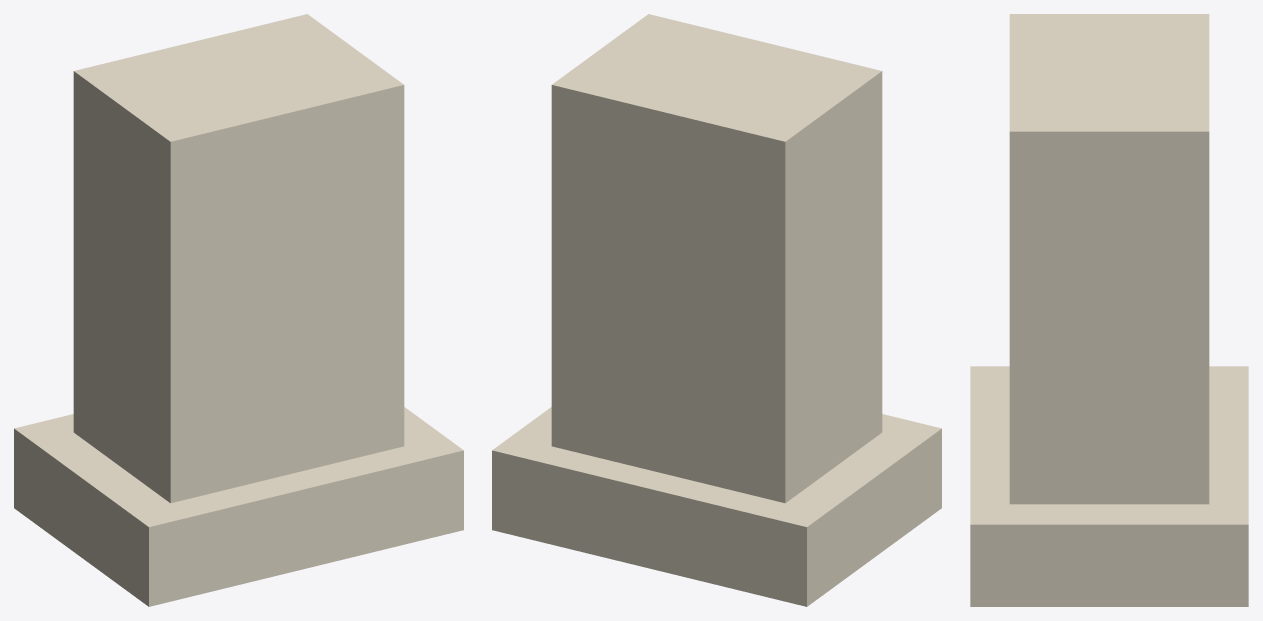
The model's file is edificio.glb.
3 renders of one model, left to right at view 1: azimuth 30°, elevation 25°; view 2: azimuth 150°, elevation 25°; view 3: azimuth 270°, elevation 25°, orthographic. The views are drawn at different scales.
Parts seen in each view (by area): view 1: Edificio Colegios 875; view 2: Edificio Colegios 875; view 3: Edificio Colegios 875.
Part boxes in pixels (x1,y1,x2,y2): Edificio Colegios 875: (14,14,463,606); Edificio Colegios 875: (492,14,941,606); Edificio Colegios 875: (970,14,1248,606).
Bounding box in the file's own units: 1.24 × 1.66 × 0.92.
